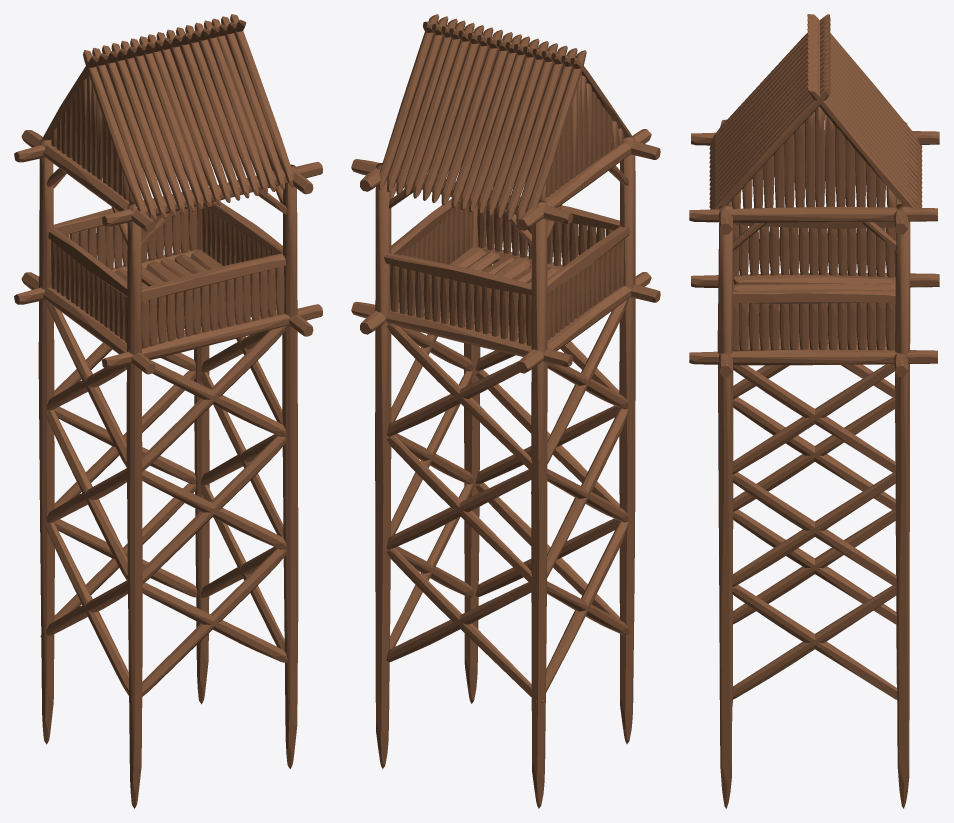
Rendered from wood_tower.fbx.
3 renders of one model, left to right at view 1: azimuth 30°, elevation 25°; view 2: azimuth 150°, elevation 25°; view 3: azimuth 270°, elevation 25°, orthographic.
Parts seen in each view (by area): view 1: TowerBody, TowerRoof; view 2: TowerBody, TowerRoof; view 3: TowerBody, TowerRoof.
Part boxes in pixels (box(x1,y1,x2,y2)): TowerBody: box(14, 130, 322, 808); TowerRoof: box(43, 14, 293, 220); TowerBody: box(351, 129, 660, 808); TowerRoof: box(378, 14, 631, 222); TowerBody: box(689, 119, 939, 808); TowerRoof: box(709, 14, 922, 209).
Size of the model in its own units: 279 by 893 by 280.
